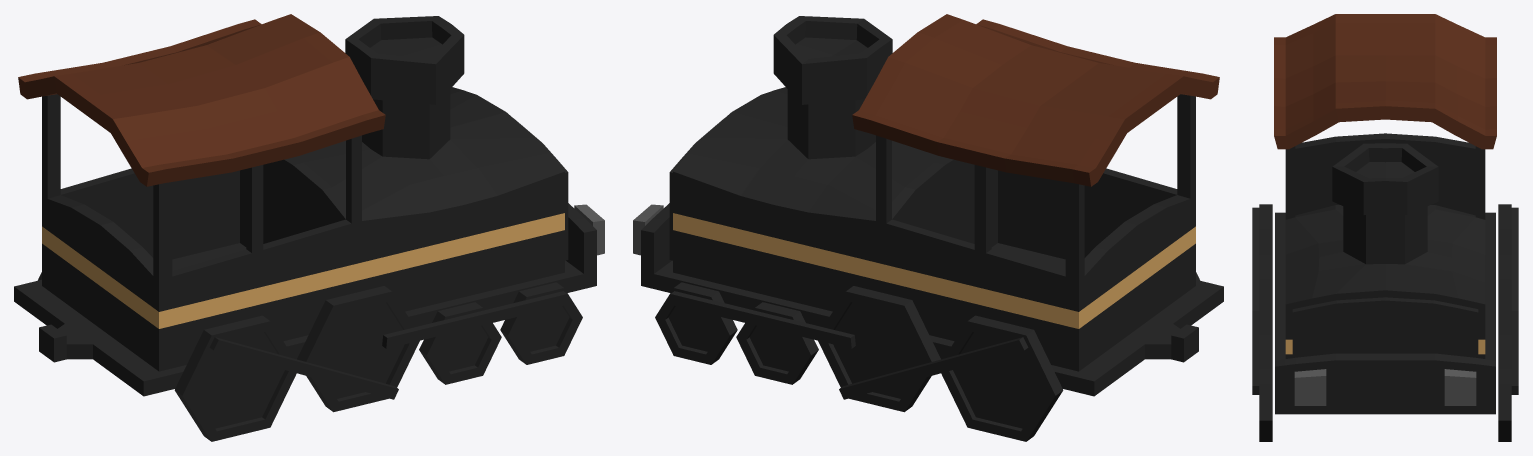
The model's file is Locomotive_Steam.fbx.
3 renders of one model, left to right at view 1: azimuth 30°, elevation 25°; view 2: azimuth 150°, elevation 25°; view 3: azimuth 270°, elevation 25°, orthographic. The views are drawn at different scales.
Parts seen in each view (by area): view 1: Box, Engine, Roof, Wheels, Chassis; view 2: Box, Engine, Roof, Wheels, Chassis; view 3: Engine, Roof, Chassis, Wheels, Box.
Boxes of the visible parts, <box> form: Box: <box>42,94,361,371</box>; Engine: <box>295,16,568,311</box>; Roof: <box>18,14,385,186</box>; Wheels: <box>38,272,582,441</box>; Chassis: <box>14,203,604,396</box>; Box: <box>876,94,1195,371</box>; Engine: <box>669,16,942,311</box>; Roof: <box>852,14,1219,186</box>; Wheels: <box>655,272,1199,441</box>; Chassis: <box>633,203,1223,396</box>; Engine: <box>1285,143,1485,358</box>; Roof: <box>1274,14,1496,149</box>; Chassis: <box>1275,212,1495,414</box>; Wheels: <box>1252,204,1518,441</box>; Box: <box>1285,133,1485,219</box>.
Bounding box in the file's own units: 249 × 146 × 133.
